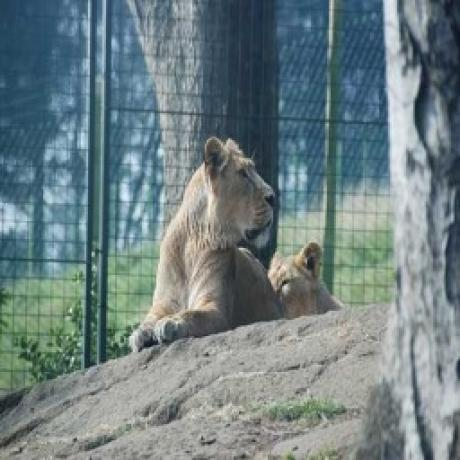Lion: (132, 137, 280, 352), (266, 240, 341, 318)
